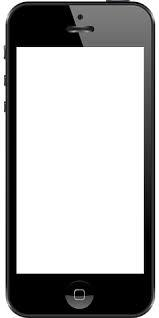Smartphone: (7, 5, 155, 315)
